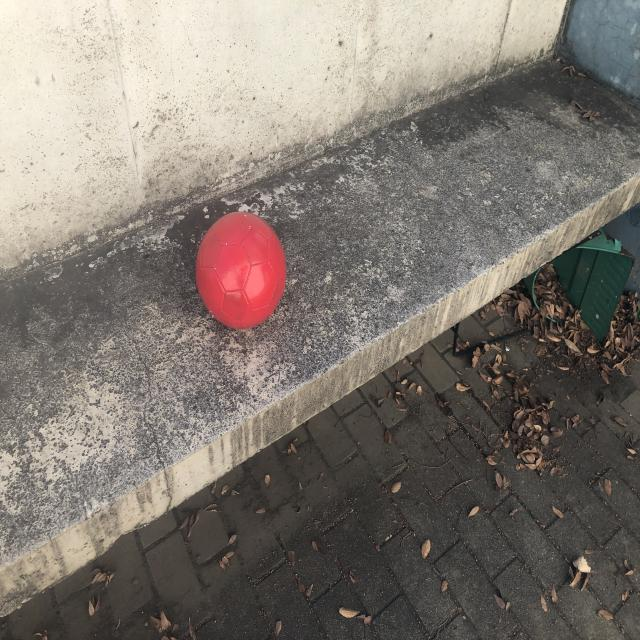red_ball: (195, 213, 286, 331)
